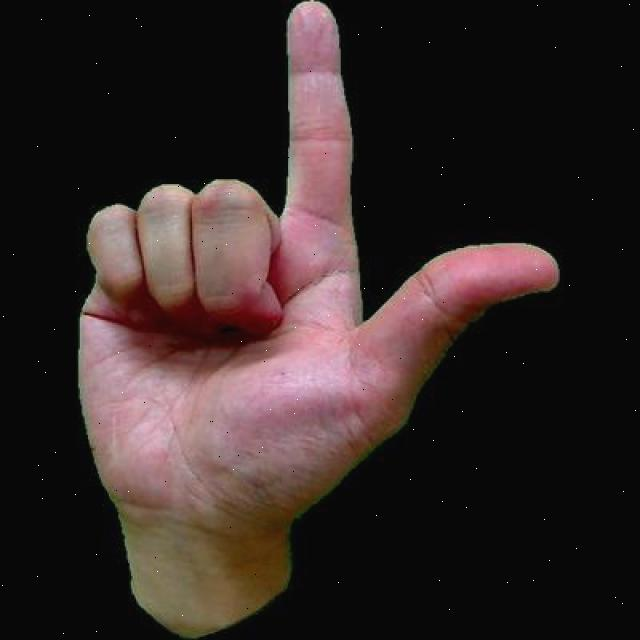l: (72, 0, 562, 637)
